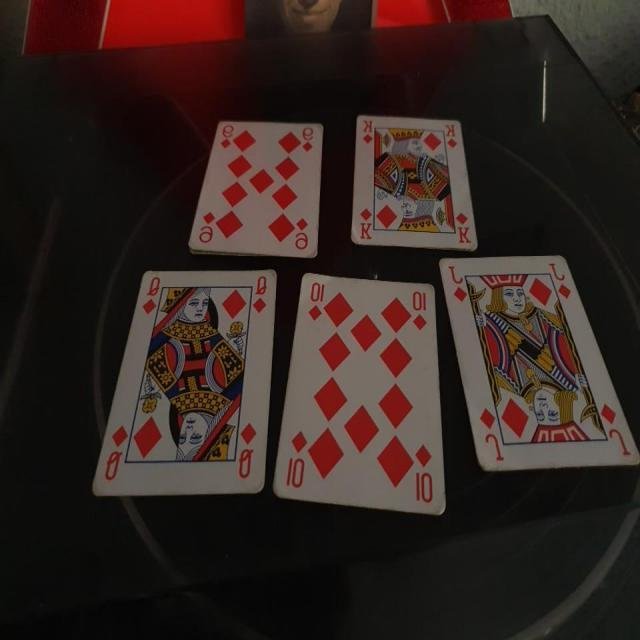10 of diamonds: (270, 270, 450, 519)
9 of diamonds: (186, 116, 324, 260)
jack of diamonds: (438, 252, 640, 473)
king of diamonds: (350, 114, 479, 250)
queen of diamonds: (90, 264, 280, 502)
